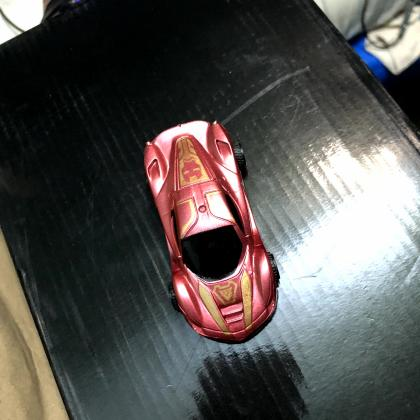Car: (144, 122, 280, 345)
